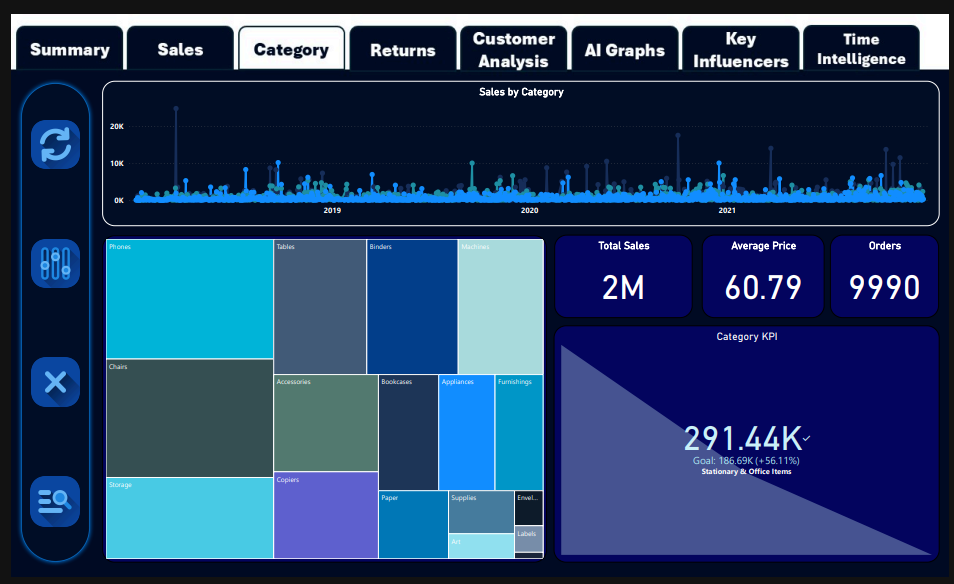

The dashboard page shown, as its layout file describes it:
{"tool":"powerbi","page":{"name":"Category Hierarchy","canvas":[1500,900],"ordinal":2},"visuals":[{"type":"treemap","fields":{"Group":["Sub-Category.Sub-Category"],"Values":["E-Commerce.Total Sales"]},"box":[145.7,354.3,711.7,523],"z":0},{"type":"card","title":"Total Sales ","fields":{"Values":["E-Commerce.Total Sales"]},"box":[868.8,353.5,221.5,132],"z":1000},{"type":"card","title":"Average Price","fields":{"Values":["Avg(E-Commerce.Discounted Price)"]},"box":[1105.2,353.5,195.9,132],"z":2000},{"type":"card","title":"Orders","fields":{"Values":["CountNonNull(E-Commerce.Order_ID)"]},"box":[1309.6,353.5,174.6,132],"z":3000},{"type":"kpi","title":"Category KPI","fields":{"Indicator":["Sum(E-Commerce.Profit)"],"Goal":["Sum(E-Commerce.Discounted Price)"],"TrendLine":["Category.Category"]},"box":[868.1,498.5,616.6,378.8],"z":4000},{"type":"lineChart","title":"Sales by Category","fields":{"Series":["Category.Category"],"Y":["E-Commerce.Total Sales"],"Category":["Calendar.Date.Variation.Date Hierarchy.Year"]},"box":[145.7,107.4,1339,231.6],"z":5000},{"type":"shape","box":[9.2,104.3,124.2,779.1],"z":6000},{"type":"image","box":[27.6,164.1,87.4,89],"z":7000},{"type":"image","box":[29.1,449.4,87.4,89],"z":8000},{"type":"image","box":[26.1,734.7,89,89],"z":9000},{"type":"actionButton","title":"Sales","box":[191.7,17,164,74.5],"z":11000},{"type":"actionButton","title":"Returns","box":[539.9,16.9,171.8,75.2],"z":12000},{"type":"actionButton","title":"Customer Analysis ","box":[722.4,16.9,164.1,75.2],"z":13000},{"type":"actionButton","title":"Ai Graphs","box":[901.8,16.9,162.6,75.2],"z":14000},{"type":"actionButton","title":"Key Influencers","box":[1075.2,16.9,181,75.2],"z":15000},{"type":"actionButton","title":"Time Intelligence","box":[1266.9,16.9,188.7,75.2],"z":16000},{"type":"actionButton","title":"Summary ","box":[9.2,16.9,167.2,70.6],"z":17000},{"type":"actionButton","title":"Slicer Pane Button","box":[30.7,450.9,81.3,85.9],"z":18000}]}

Visuals, with their boxes in screenshot pixels (x1, y1, x2, y2), scaled from the page's 1500x900 canvas onto the 954x584 screenshot:
treemap - Sub-Category.Sub-Category x E-Commerce.Total Sales: 93,230,545,569
"Total Sales " card: 553,229,693,315
"Average Price" card: 703,229,827,315
"Orders" card: 833,229,944,315
"Category KPI" kpi: 552,323,944,569
"Sales by Category" lineChart: 93,70,944,220
shape: 6,68,85,573
image: 18,106,73,164
image: 19,292,74,349
image: 17,477,73,534
"Sales" actionButton: 122,11,226,59
"Returns" actionButton: 343,11,453,60
"Customer Analysis " actionButton: 459,11,564,60
"Ai Graphs" actionButton: 574,11,677,60
"Key Influencers" actionButton: 684,11,799,60
"Time Intelligence" actionButton: 806,11,926,60
"Summary " actionButton: 6,11,112,57
"Slicer Pane Button" actionButton: 20,293,71,348
